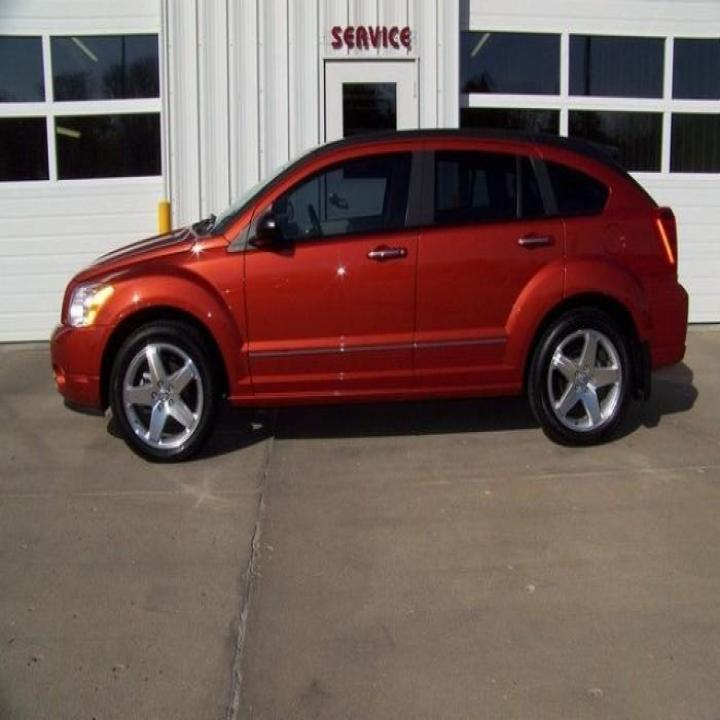car: (48, 126, 689, 463)
